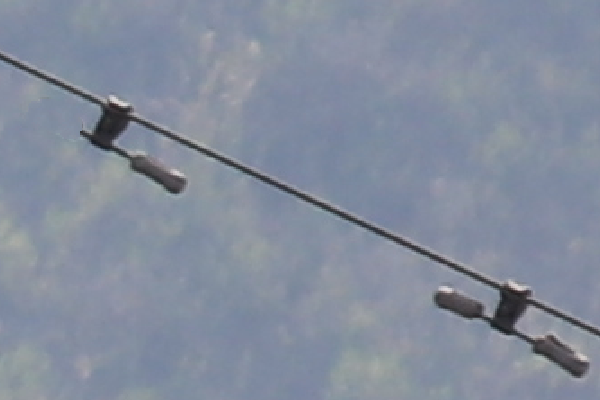damper_defect: (423, 273, 590, 380), (72, 92, 192, 199)
